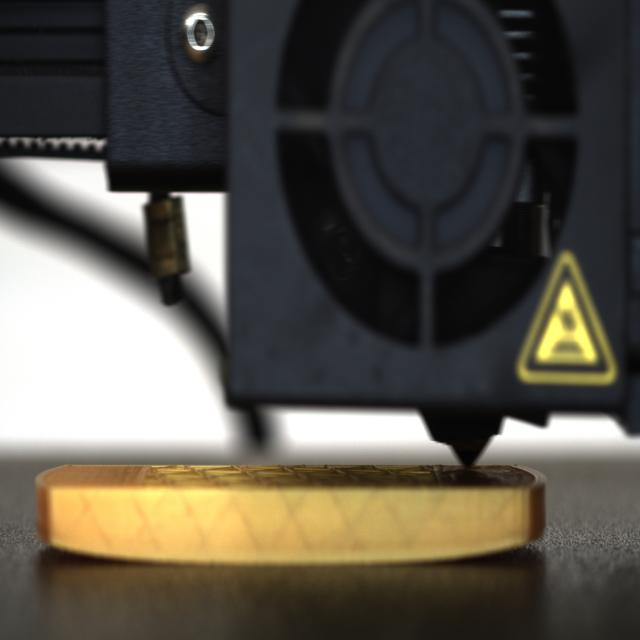Warping: (458, 532, 543, 566)
